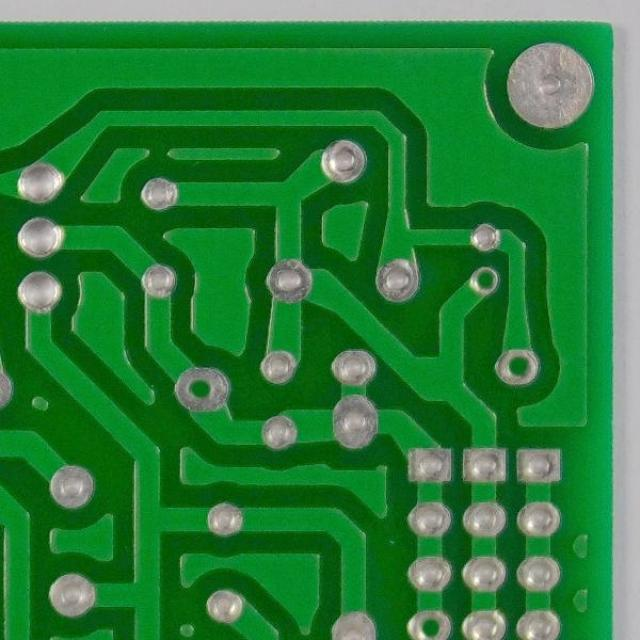Missing_Hole: (170, 364, 233, 415), (490, 346, 545, 389), (402, 608, 455, 640), (465, 266, 501, 298)
